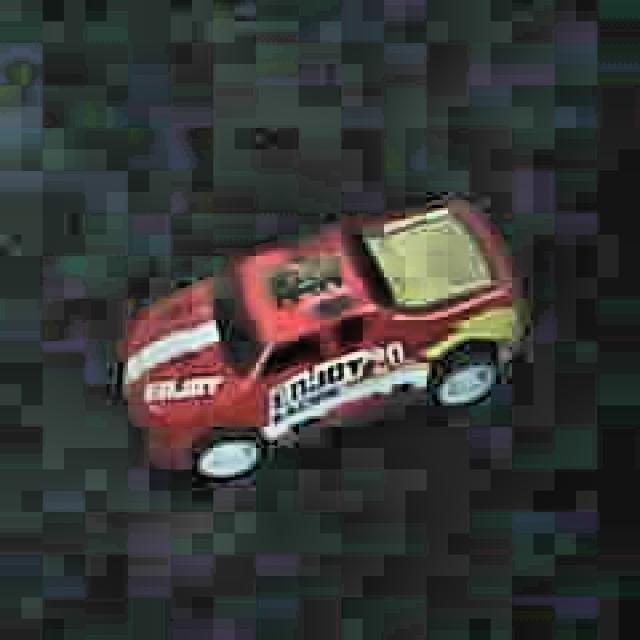car: (120, 195, 528, 484)
